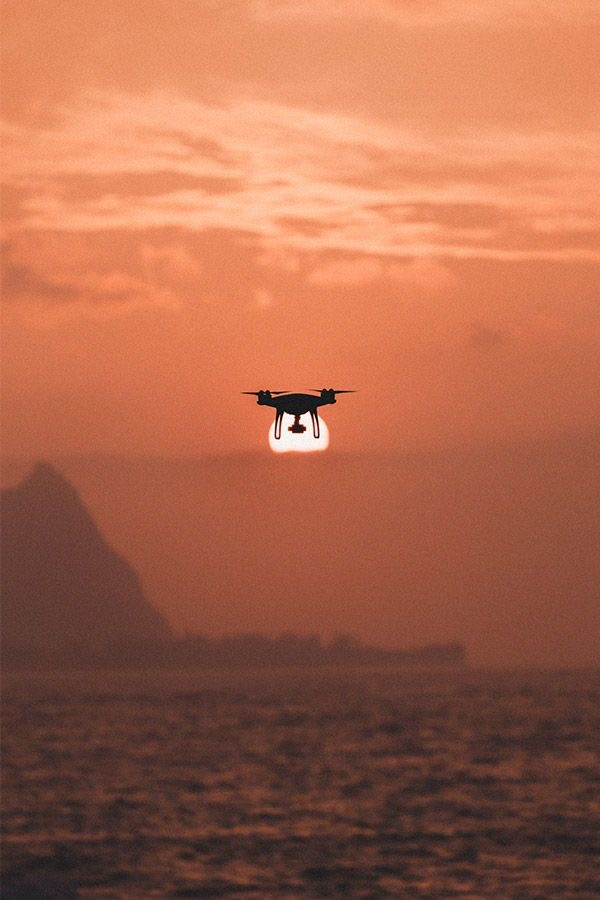drone_other: (239, 384, 360, 440)
